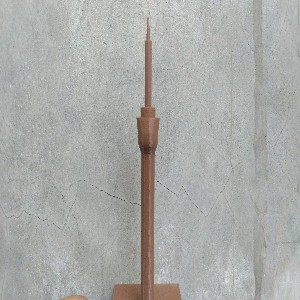solder: (136, 15, 161, 300)
